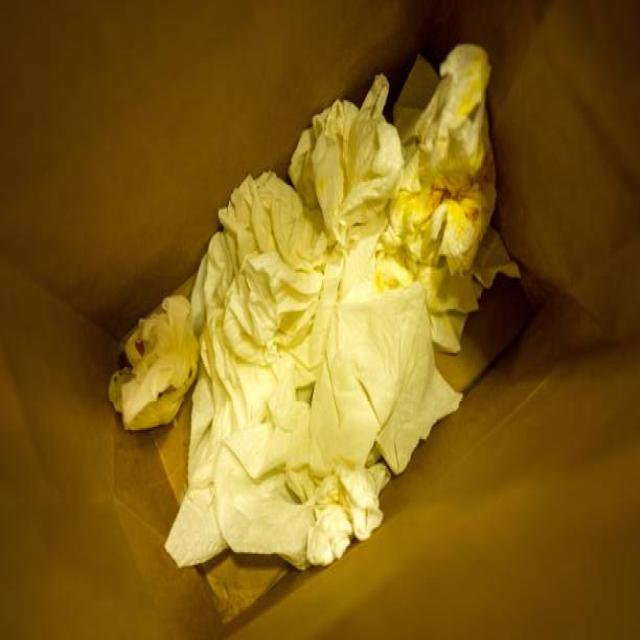electronic: (111, 41, 528, 623)
